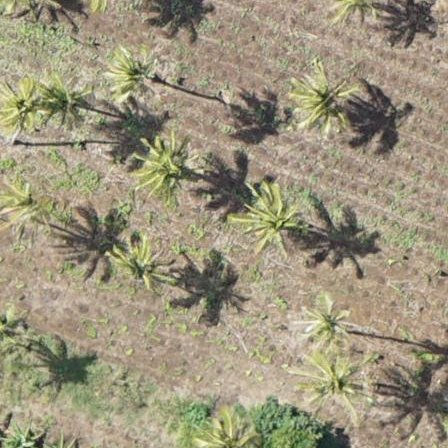palm_tree: (129, 133, 198, 207), (243, 185, 307, 254), (105, 231, 169, 299), (1, 175, 61, 246), (295, 69, 357, 136), (295, 294, 358, 354), (103, 42, 165, 102), (298, 355, 361, 413), (1, 71, 52, 137)
